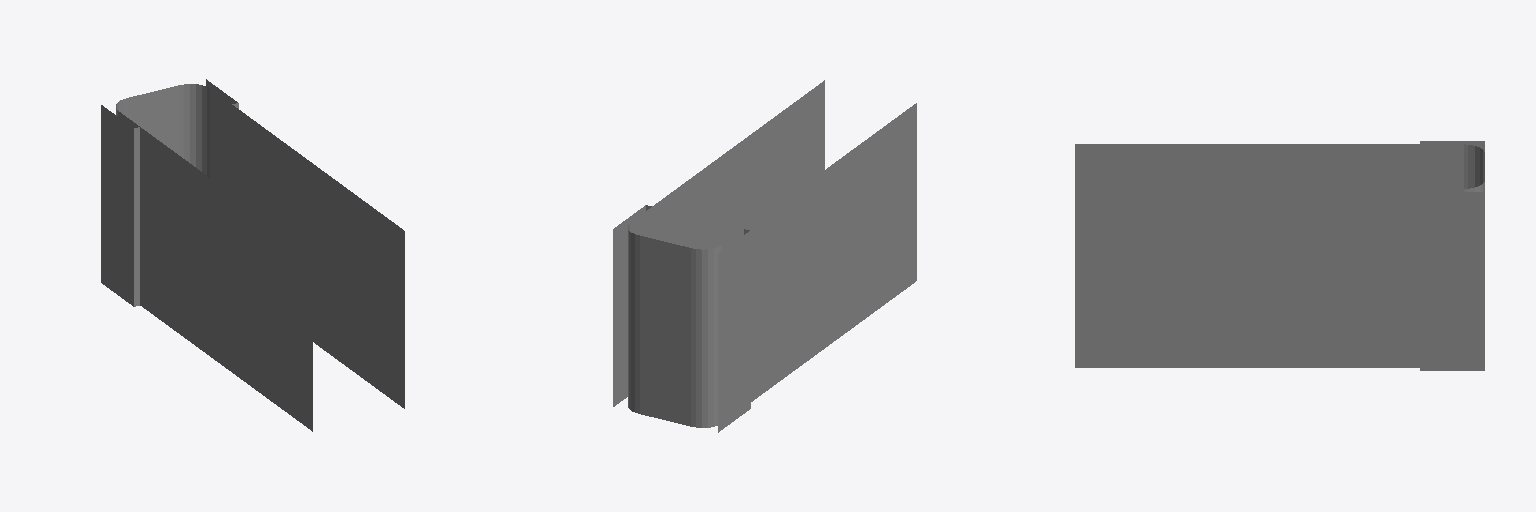
File: TrackPiece_Straight_Long.obj
The picture shows the model from 3 angles: view 1: azimuth 30°, elevation 25°; view 2: azimuth 150°, elevation 25°; view 3: azimuth 270°, elevation 25°; orthographic projection.
Visible parts, largest first — view 1: Object001; view 2: Object001; view 3: Object001.
Boxes of the visible parts, box(x1,y1,x2,y2) form: Object001: box(101, 79, 404, 431); Object001: box(613, 80, 916, 432); Object001: box(1075, 141, 1484, 370).
Bounding box in the file's own units: 7.36 × 12 × 25.